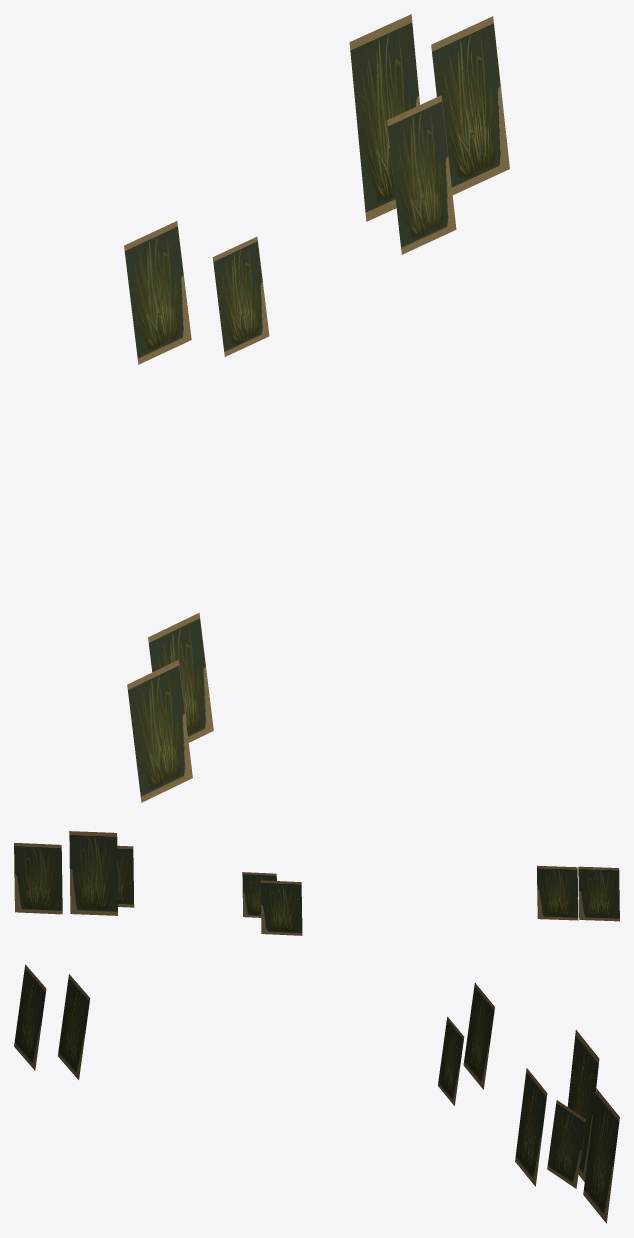
The model's file is object_grass_polys10.fbx.
The picture shows the model from 3 angles, top to bottom: view 1: azimuth 30°, elevation 25°; view 2: azimuth 150°, elevation 25°; view 3: azimuth 270°, elevation 25°; orthographic projection. The views are drawn at different scales.
Parts seen in each view (by area): view 1: obj0.066; view 2: obj0.066; view 3: obj0.066.
Part boxes in pixels (x1,y1,x2,y2): obj0.066: (124,14,509,802); obj0.066: (14,831,619,935); obj0.066: (14,964,619,1223).
Bounding box in the file's own units: 12.33 × 4.78 × 11.55.
